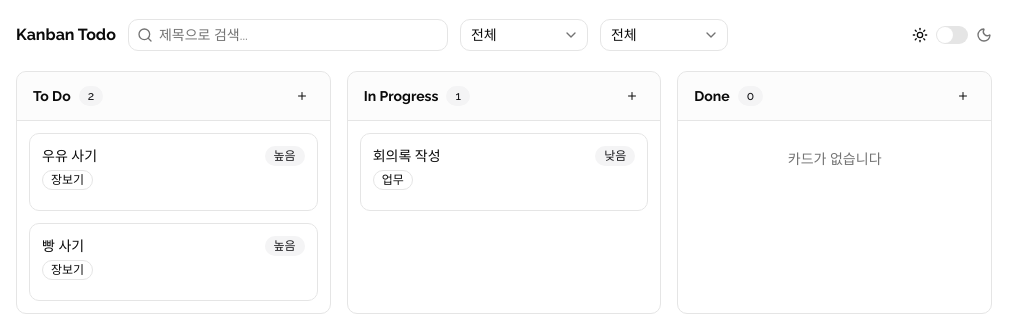
Test: KANBAN-007: 우선순위·태그 필터 › example 2: 태그 '장보기' 필터 → 장보기만 표시
Click the dropdown named "태그". click: {"x": 664, "y": 35}
box: [600,19,728,51]
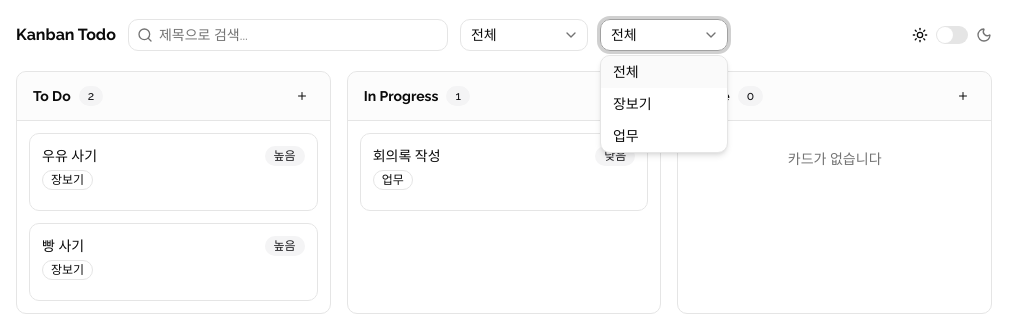
Click the option "장보기". click: {"x": 632, "y": 104}
box: [613,96,652,112]
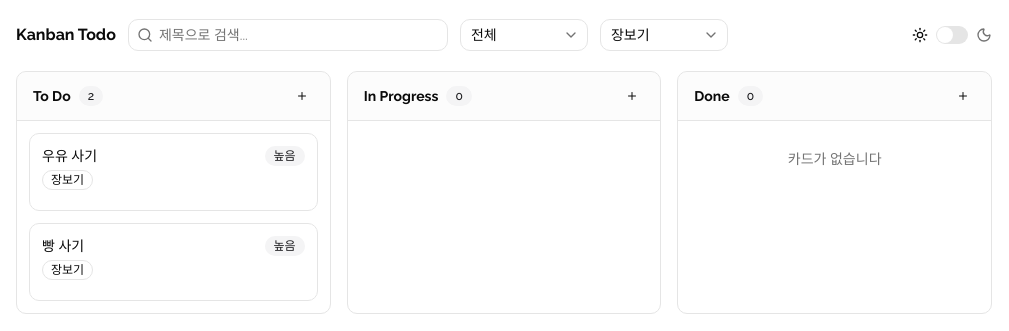
Expected: the text "우유 사기" is shown, [42,146,97,166]
Expected: the text "회의록 작성" is gone
